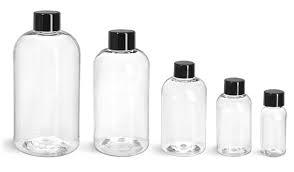Container for household chemicals: (12, 7, 83, 172), (95, 20, 156, 165), (155, 43, 212, 170), (217, 65, 256, 167), (260, 77, 294, 171)
